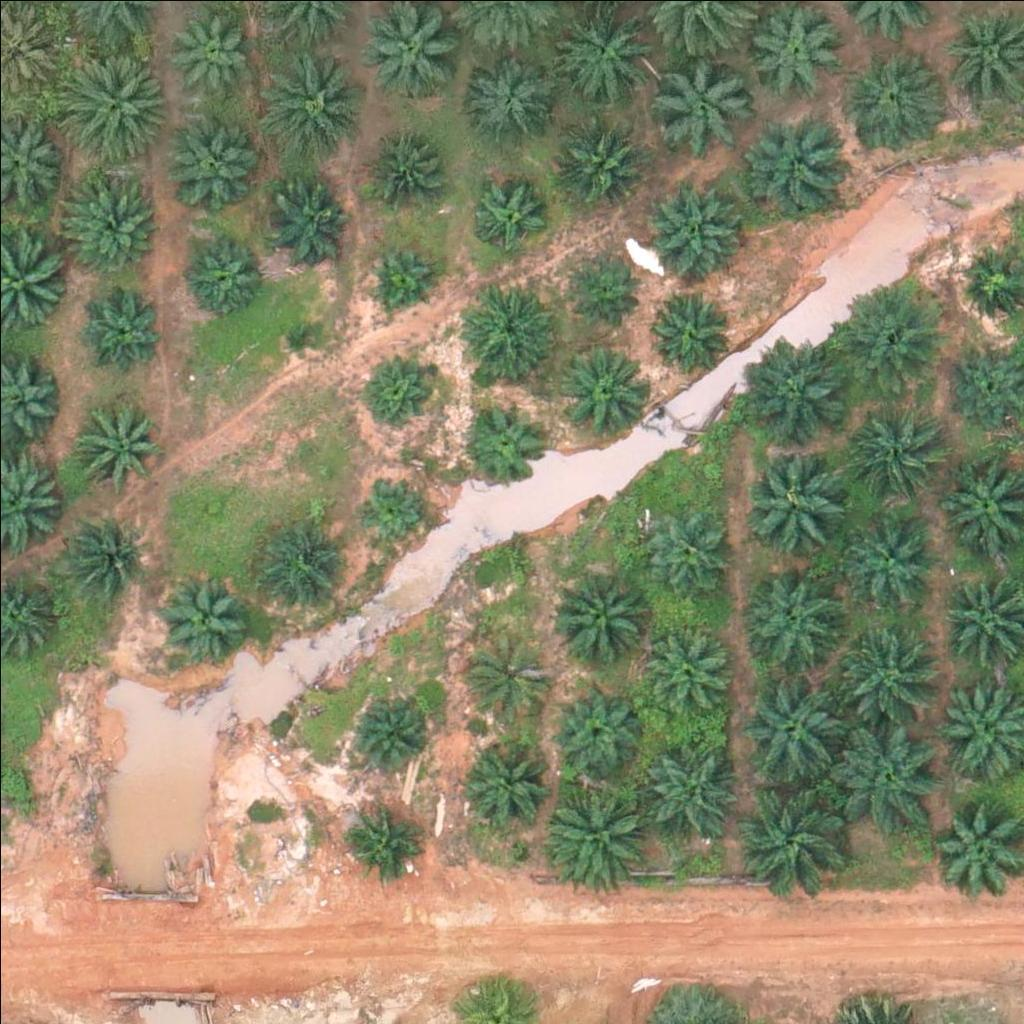Kelapa_Sawit: (737, 564, 850, 678), (541, 777, 654, 891), (831, 718, 944, 831), (834, 274, 947, 387), (733, 670, 846, 783), (745, 453, 858, 566), (829, 614, 941, 727), (841, 393, 953, 506), (735, 782, 847, 895), (742, 330, 854, 443), (54, 47, 166, 160), (636, 741, 736, 842), (462, 272, 562, 373), (60, 173, 160, 274), (159, 105, 259, 206), (649, 55, 749, 156), (751, 116, 851, 217), (843, 51, 943, 152), (842, 514, 942, 614), (554, 571, 654, 671), (250, 508, 350, 608), (261, 51, 361, 151), (646, 170, 746, 270), (747, 1, 847, 101), (458, 50, 558, 150), (338, 799, 426, 887), (465, 630, 553, 718), (644, 628, 732, 716), (641, 508, 729, 596), (551, 689, 639, 777), (461, 741, 549, 829), (75, 285, 163, 373), (262, 180, 350, 268), (70, 400, 157, 489), (344, 683, 431, 771), (57, 510, 144, 598), (164, 580, 251, 668), (458, 397, 545, 485), (559, 117, 646, 205), (363, 116, 450, 204), (179, 239, 266, 327), (564, 348, 651, 436), (646, 285, 733, 373), (473, 175, 548, 251), (367, 235, 442, 311), (361, 352, 436, 428), (350, 472, 425, 548), (563, 245, 638, 320), (275, 317, 325, 367)
